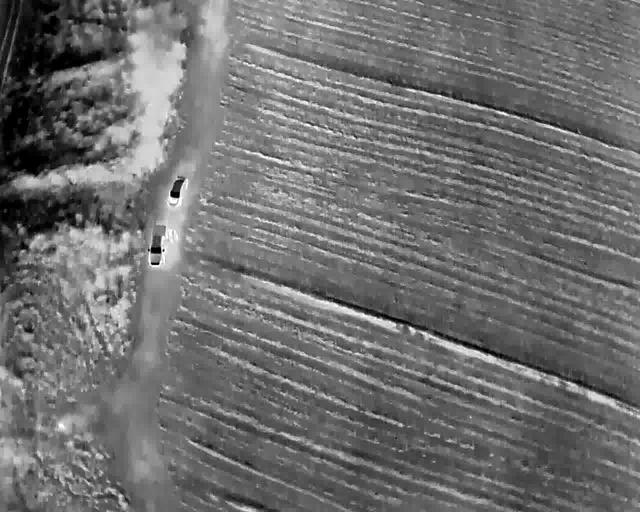car: (149, 222, 167, 267), (169, 173, 185, 206)
person: (57, 423, 65, 428)
